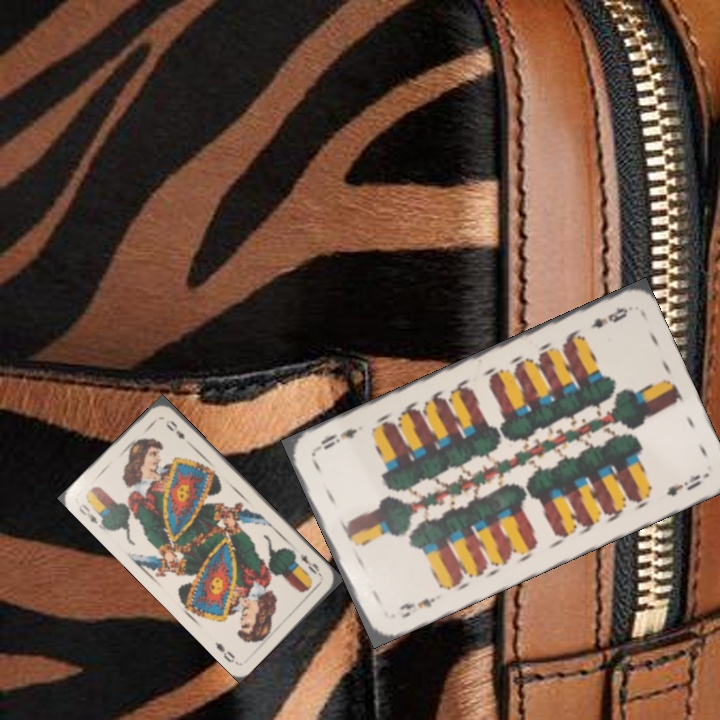E9: (586, 302, 631, 332), (395, 593, 438, 621)
EO: (74, 497, 107, 531), (296, 549, 325, 580)
